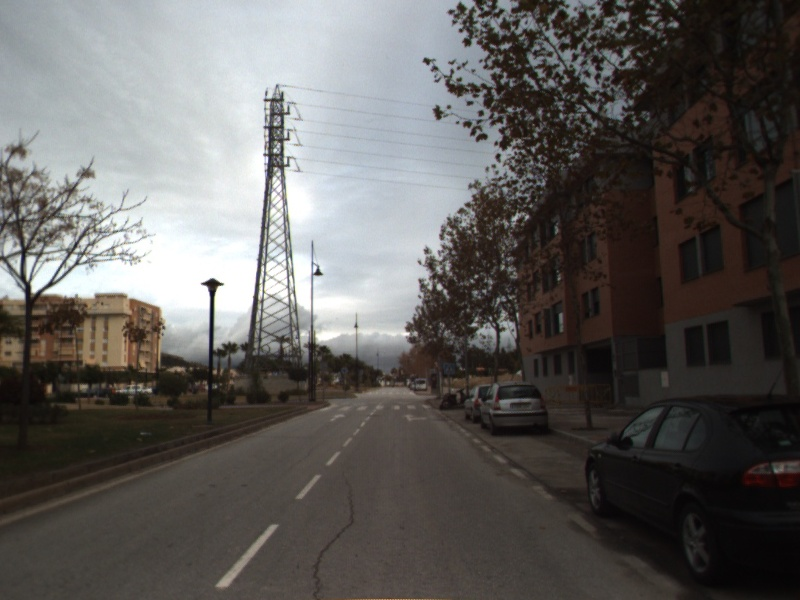STRAIGHT: (328, 412, 348, 423)
STRAIGHT_RIGHT: (400, 412, 429, 423)
